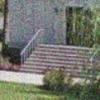stairs: (16, 40, 100, 80)
